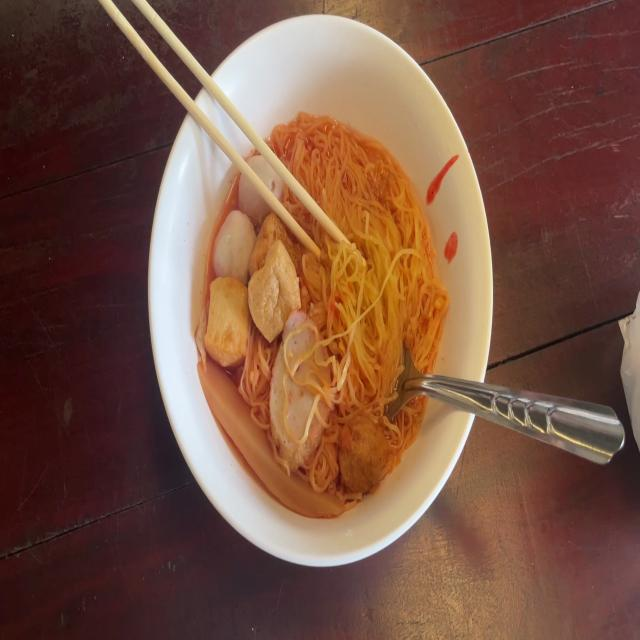crunchy_squid: (205, 363, 336, 524)
egg_noodles: (288, 121, 439, 403)
fish_ball: (208, 207, 256, 283), (238, 153, 280, 221)
fried_fish_balls: (276, 315, 329, 453)
fried_tofu: (251, 217, 299, 326)
noodle: (204, 116, 440, 496)
tofu: (206, 274, 252, 361)
